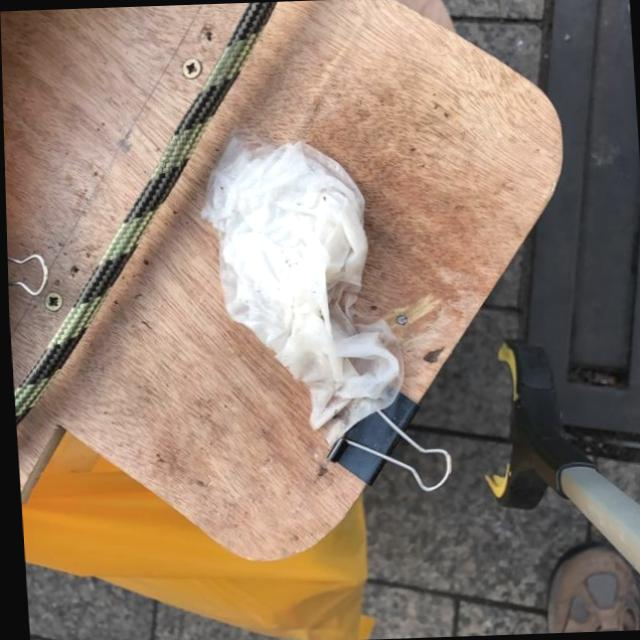Paper: (192, 120, 408, 454)
